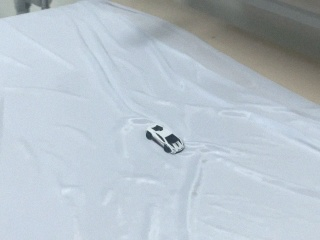toy_car: (146, 122, 185, 155)
